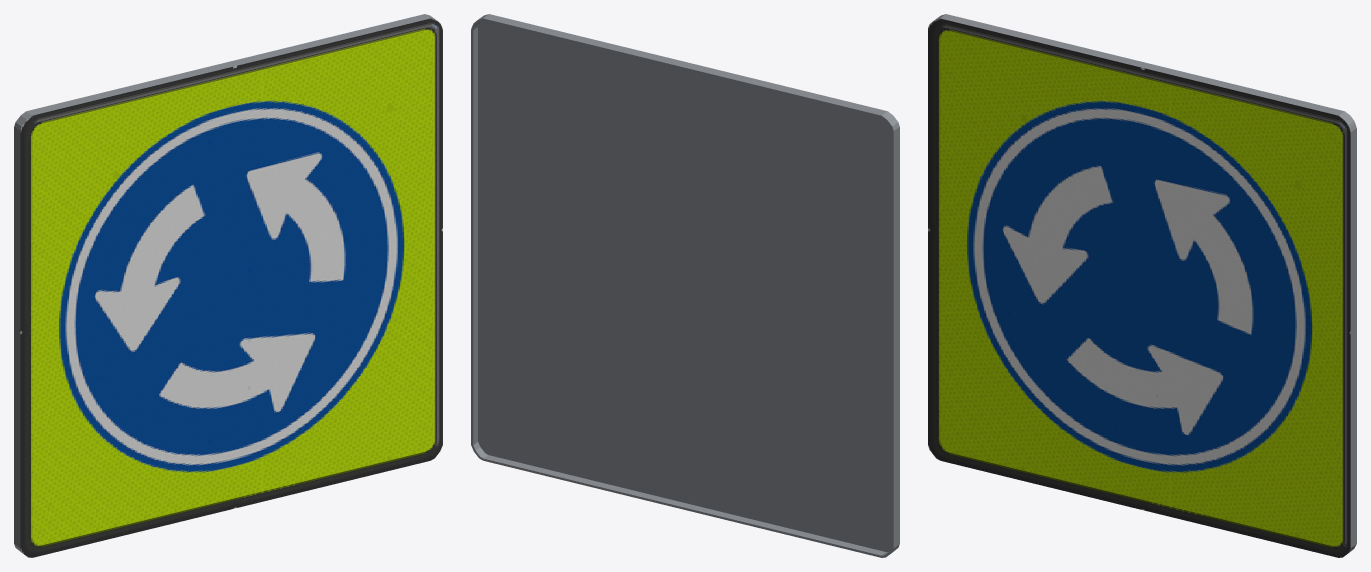
The picture shows the model from 3 angles, left to right: view 1: azimuth 30°, elevation 25°; view 2: azimuth 150°, elevation 25°; view 3: azimuth 330°, elevation 25°; orthographic projection.
Parts seen in each view (by area): view 1: cat_579e88c687555b88; view 2: cat_579e88c687555b88; view 3: cat_579e88c687555b88.
Part boxes in pixels (x1=…): cat_579e88c687555b88: x1=14, y1=14, x2=442, y2=557; cat_579e88c687555b88: x1=471, y1=14, x2=899, y2=557; cat_579e88c687555b88: x1=928, y1=14, x2=1356, y2=557.
Bounding box in the file's own units: 0.6 × 0.015 × 0.6.
2 materials, 1 textured.
